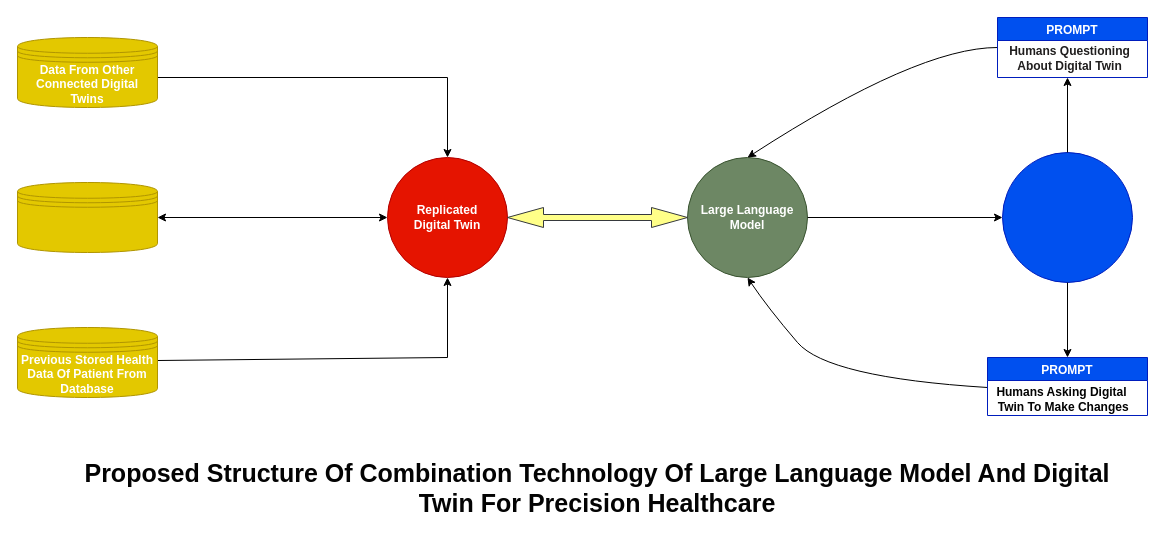
Some shapes in this 1165 by 535 pixel diagram are drawn without their labels. The centre of each missing label's shape, as x and y in pixels:
"Data Storage Of Current Digital Twin" goes at pixel 87 217.
"Large Language Model Answering Question As Per The Digital Twin's State" goes at pixel 1067 217.
